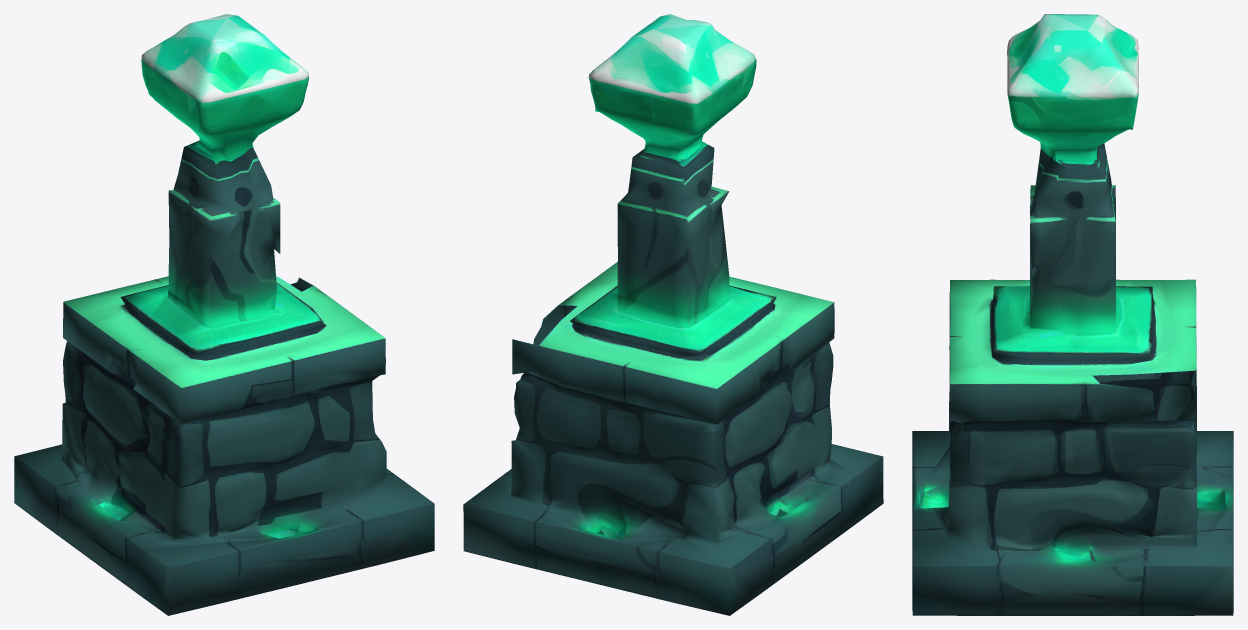
The model's file is z4_pedestal.glb.
3 views of the same model, side by side, from view 1: azimuth 30°, elevation 25°; view 2: azimuth 150°, elevation 25°; view 3: azimuth 270°, elevation 25° (orthographic). The views are drawn at different scales.
Size of the model in its own units: 1.07 by 1.91 by 1.06.
1 material, 1 textured.
